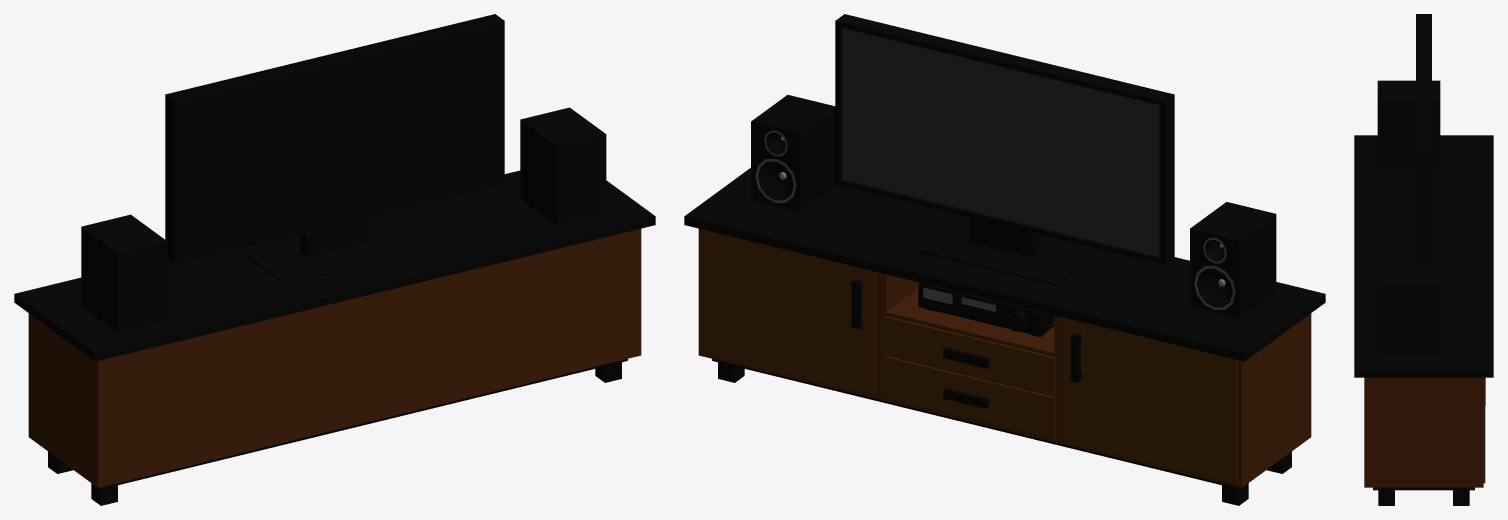
The picture shows the model from 3 angles, left to right: view 1: azimuth 30°, elevation 25°; view 2: azimuth 150°, elevation 25°; view 3: azimuth 270°, elevation 25°; orthographic projection. The views are drawn at different scales.
Parts seen in each view (by area): view 1: TVcabinet, TV, Audiosystem; view 2: TVcabinet, TV, Audiosystem; view 3: TVcabinet, Audiosystem, TV.
Boxes of the visible parts, x1,y1,x2,y2 form: TVcabinet: [14, 170, 655, 505]; TV: [165, 14, 504, 285]; Audiosystem: [81, 107, 606, 332]; TVcabinet: [684, 168, 1325, 505]; TV: [835, 14, 1174, 285]; Audiosystem: [751, 95, 1276, 337]; TVcabinet: [1354, 135, 1493, 505]; Audiosystem: [1377, 80, 1440, 353]; TV: [1391, 14, 1456, 281].
Bounding box in the file's own units: 887 × 553 × 222.
1 material, 1 textured.
